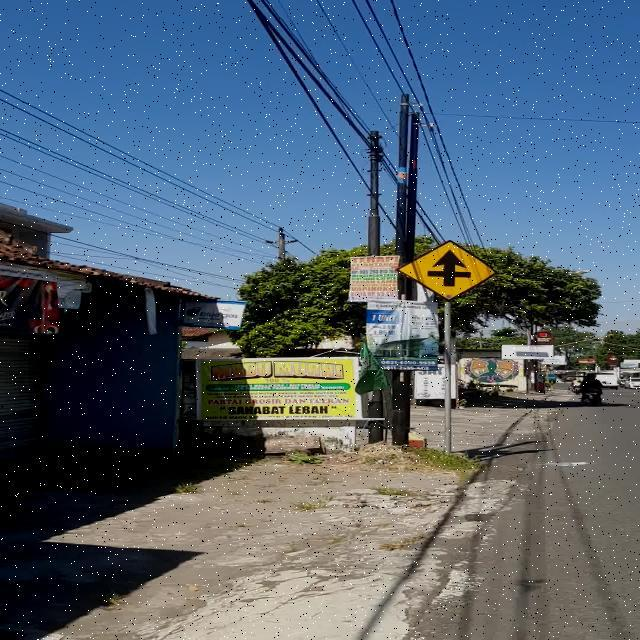Persimpangan 3 Prioritas: (396, 240, 497, 300)
